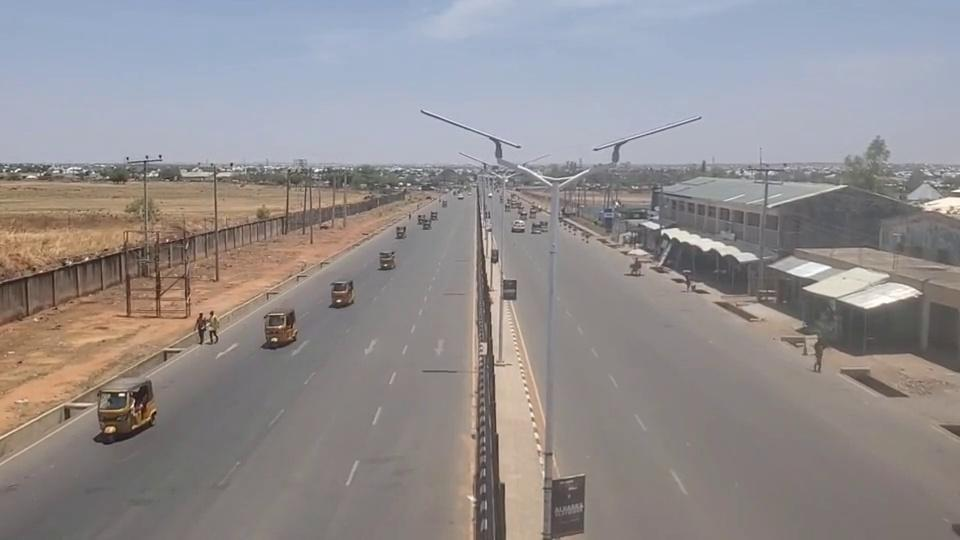car: (511, 221, 526, 231)
keke: (96, 376, 157, 437), (263, 308, 297, 347), (329, 279, 354, 306), (379, 251, 397, 271)
